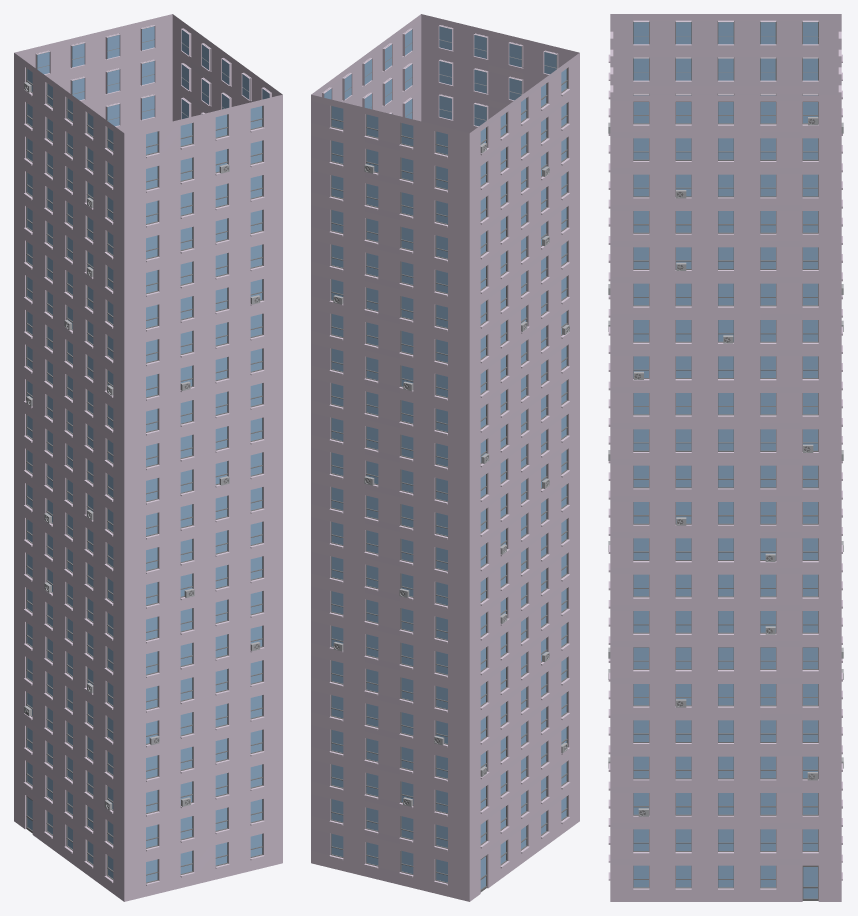
File: cityscene2_28.gltf
3 views of the same model, side by side, from view 1: azimuth 30°, elevation 25°; view 2: azimuth 150°, elevation 25°; view 3: azimuth 270°, elevation 25° (orthographic). The views are drawn at different scales.
Visible parts, largest first — view 1: cityscene2_28; view 2: cityscene2_28; view 3: cityscene2_28.
Boxes of the visible parts, bbox=[...] form: cityscene2_28: bbox=[14, 14, 282, 901]; cityscene2_28: bbox=[311, 14, 579, 901]; cityscene2_28: bbox=[608, 14, 843, 901].
Bounding box in the file's own units: 8 × 36.47 × 9.64.
